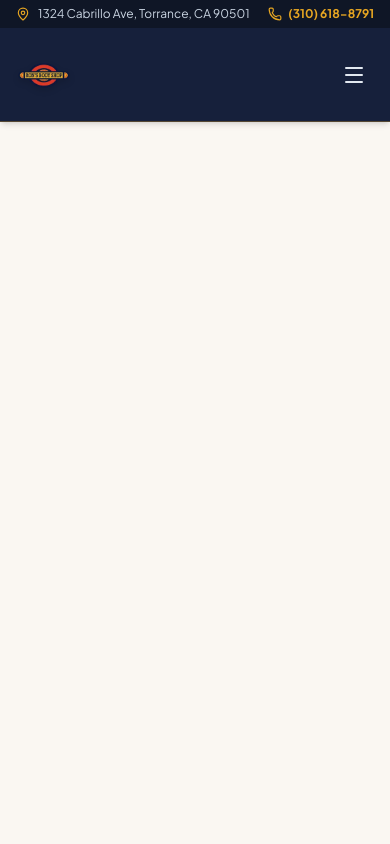
Test: Navbar mobile menu › toggles with aria-expanded, closes on link click and on Escape
Click the button named "open navigation menu" at (354, 75), box [334,55,374,95]
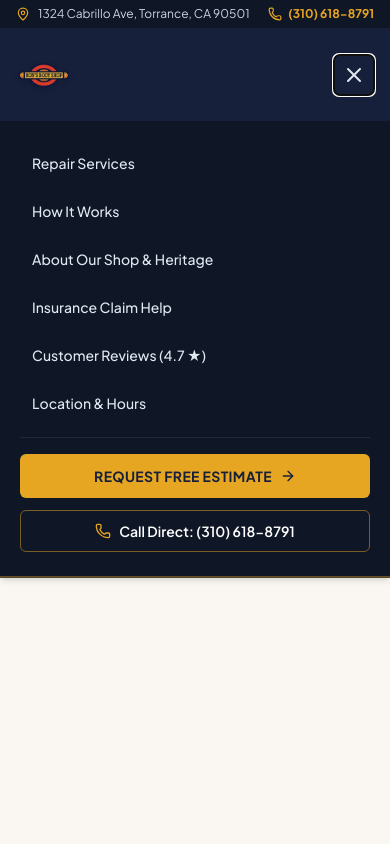
Result: the button named "open navigation menu" is expanded at [334,55,374,95]
Click the link "Location & Hours" at (89, 403), box [32,394,146,412]
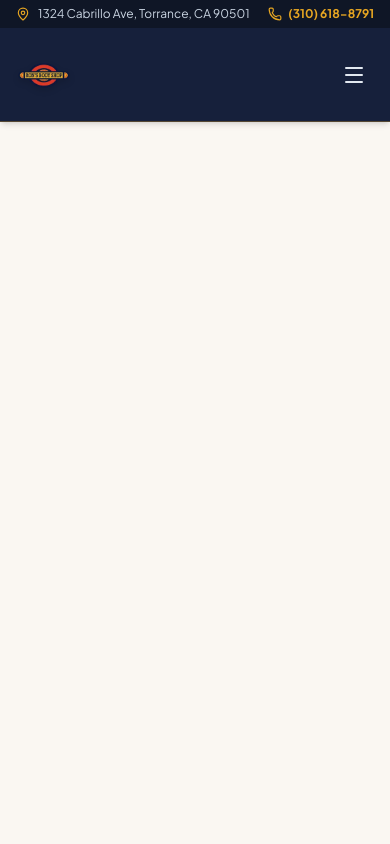
Result: the navigation bar "Mobile" is gone
Click the button named "open navigation menu" at (354, 75), box [334,55,374,95]
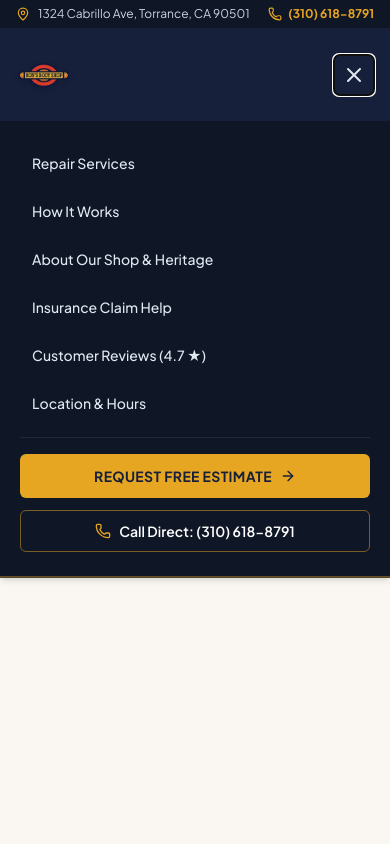
Press Escape
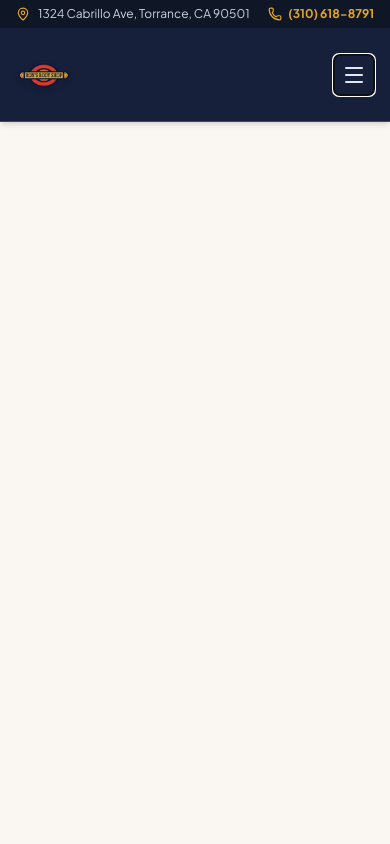
Result: the button named "open navigation menu" is collapsed at [334,55,374,95]
